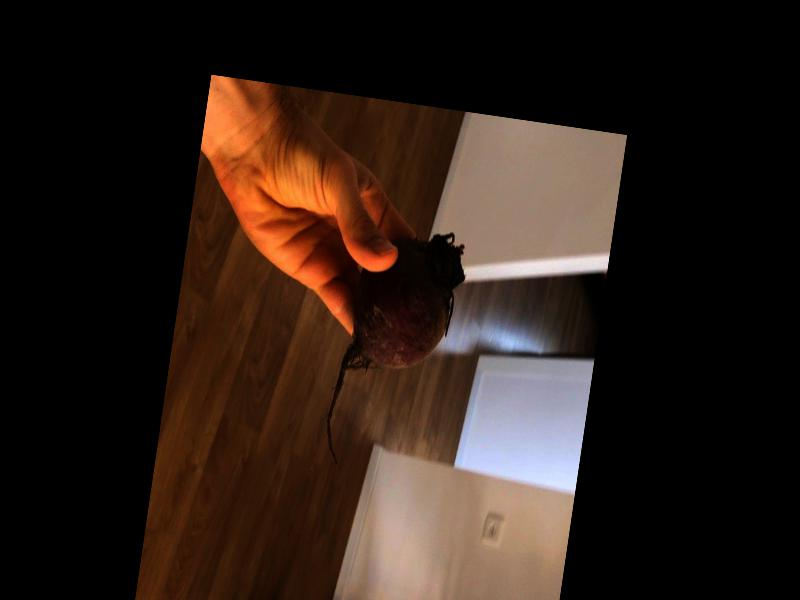Beet: (321, 222, 469, 480)
